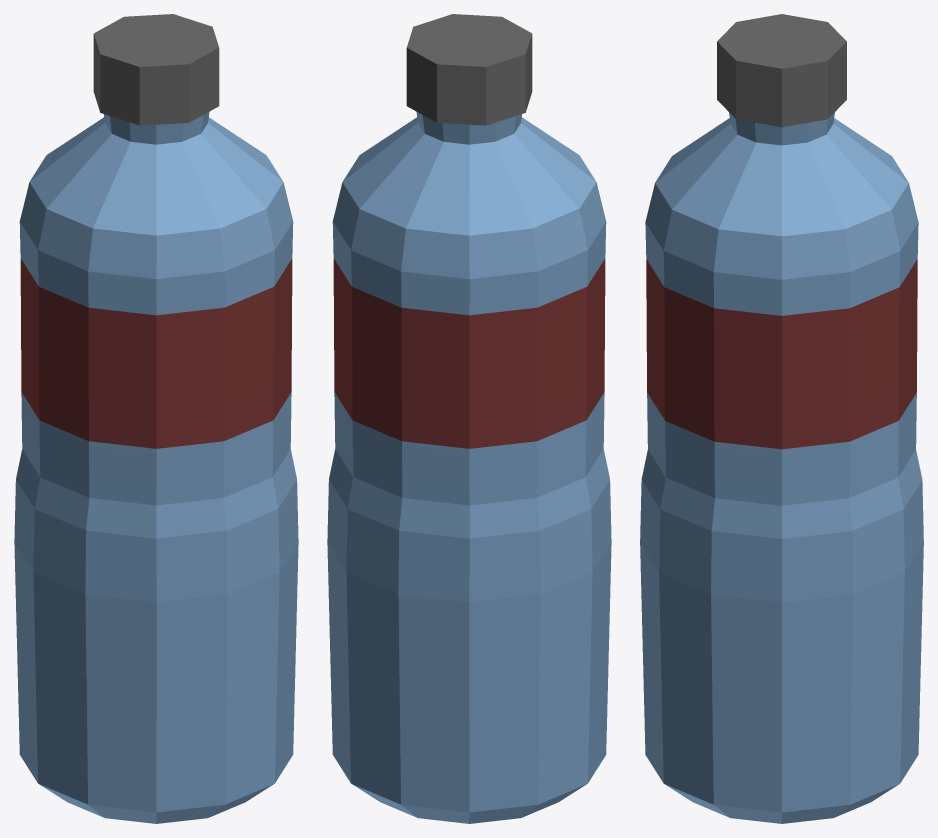
The model's file is bottle1.obj.
3 views of the same model, side by side, from view 1: azimuth 30°, elevation 25°; view 2: azimuth 150°, elevation 25°; view 3: azimuth 270°, elevation 25° (orthographic).
Visible parts, largest first — view 1: WaterBottle_3_Plastic.001, WaterBottle_3_Red.001, WaterBottle_3_Grey.001; view 2: WaterBottle_3_Plastic.001, WaterBottle_3_Red.001, WaterBottle_3_Grey.001; view 3: WaterBottle_3_Plastic.001, WaterBottle_3_Red.001, WaterBottle_3_Grey.001.
Part boxes in pixels (left/top/right/bottom): WaterBottle_3_Plastic.001: left=14, top=111, right=298, bottom=823; WaterBottle_3_Red.001: left=20, top=258, right=292, bottom=448; WaterBottle_3_Grey.001: left=93, top=14, right=219, bottom=125; WaterBottle_3_Plastic.001: left=327, top=111, right=611, bottom=823; WaterBottle_3_Red.001: left=333, top=258, right=605, bottom=448; WaterBottle_3_Grey.001: left=406, top=14, right=532, bottom=125; WaterBottle_3_Plastic.001: left=640, top=112, right=923, bottom=823; WaterBottle_3_Red.001: left=646, top=259, right=917, bottom=449; WaterBottle_3_Grey.001: left=717, top=14, right=846, bottom=127.
Size of the model in its own units: 0.4995 by 1.44 by 0.4995.
